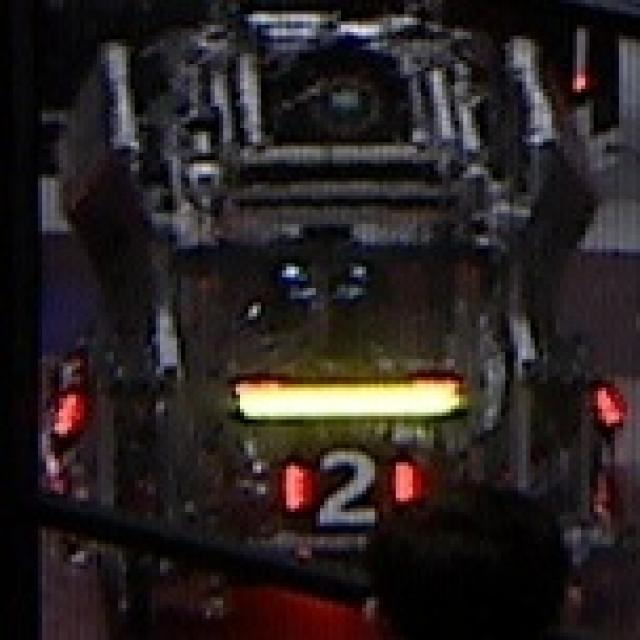R2: (278, 441, 413, 526)
